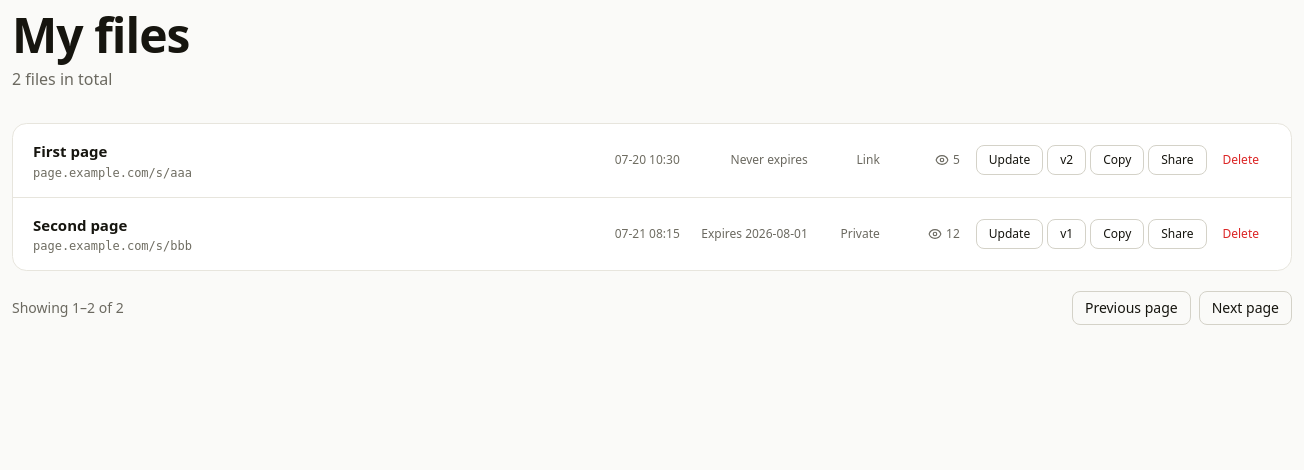
FilesPage › the version button expands the history panel with restore on old versions
Expected: the text "First page" is shown, [33, 141, 107, 161]
Step 1. Click the button named "Version history: First page" → (1067, 160), box [1047, 145, 1086, 175]
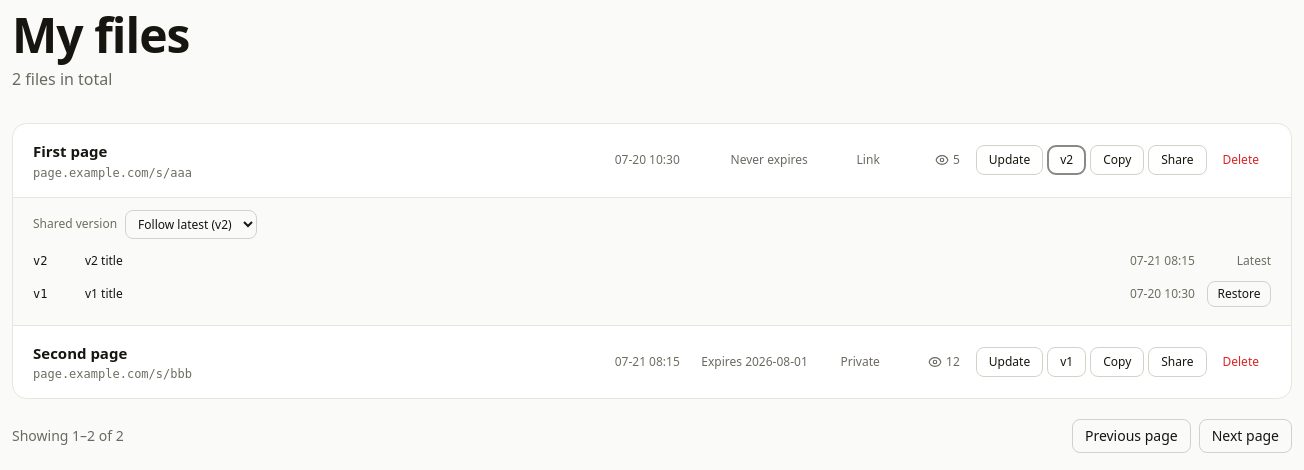
Expected: the text "v1 title" is shown, [85, 284, 123, 302]
Expected: the text "v2 title" is shown, [85, 252, 123, 268]
Expected: the button with aria-label "Restore v1 as the latest version" is shown, [1207, 280, 1271, 306]
